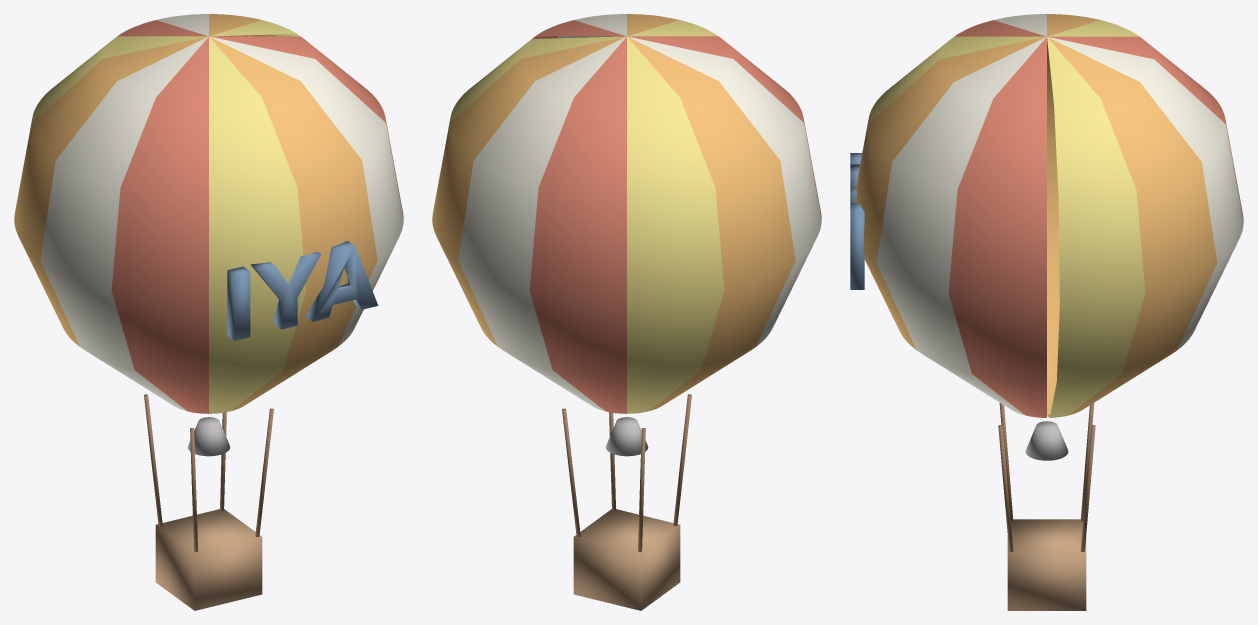
Rendered from hot-air-balloon.glb.
3 views of the same model, side by side, from view 1: azimuth 30°, elevation 25°; view 2: azimuth 150°, elevation 25°; view 3: azimuth 270°, elevation 25° (orthographic).
Parts seen in each view (by area): view 1: part0, part13, part18; view 2: part0, part13, part18; view 3: part0, part13, part18.
Boxes of the visible parts, <box> form: part0: <box>14,14,403,551</box>; part13: <box>155,509,262,610</box>; part18: <box>187,417,230,456</box>; part0: <box>432,14,821,551</box>; part13: <box>573,509,680,610</box>; part18: <box>606,417,648,456</box>; part0: <box>850,14,1243,551</box>; part13: <box>1007,519,1086,610</box>; part18: <box>1025,421,1068,460</box>.
Bounding box in the file's own units: 0.6395 × 1 × 0.6395.
3 materials, 3 textured.
